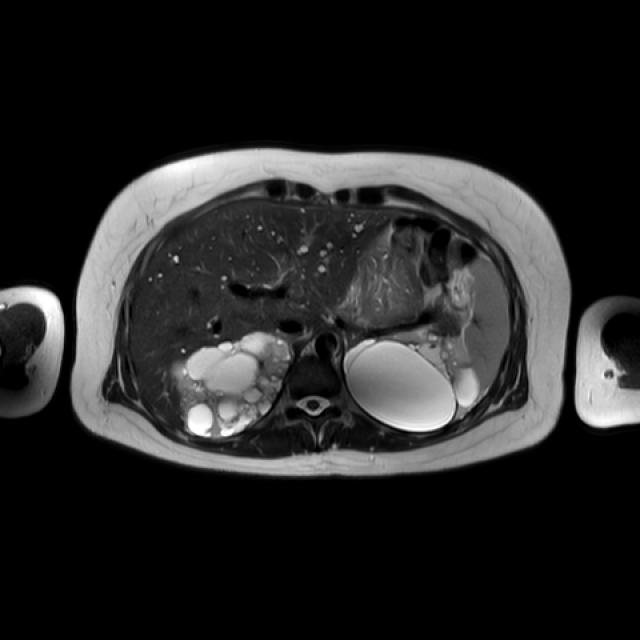sag: (175, 333, 293, 438)
sol: (345, 332, 478, 432)
